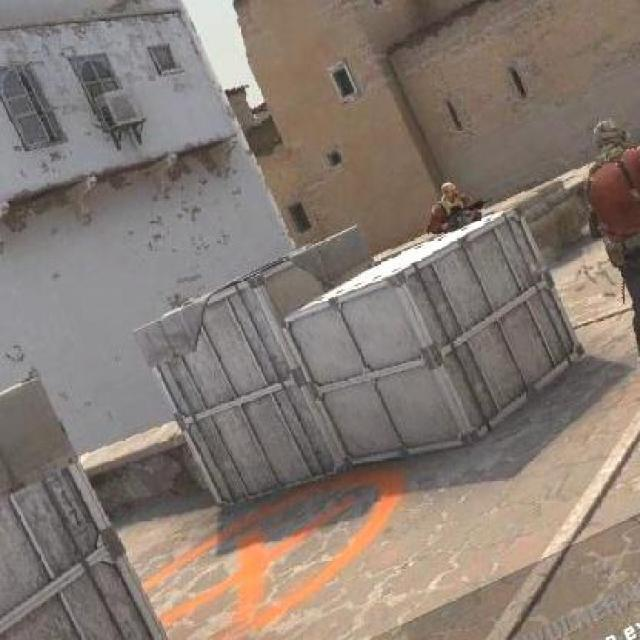T: (588, 112, 638, 354), (428, 180, 483, 232)
T_HEAD: (592, 118, 632, 160), (442, 182, 458, 202)
